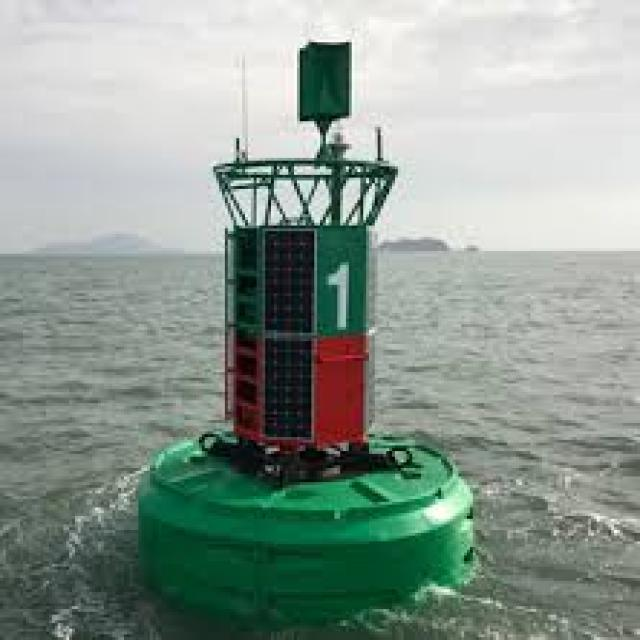buoy: (120, 16, 486, 620)
